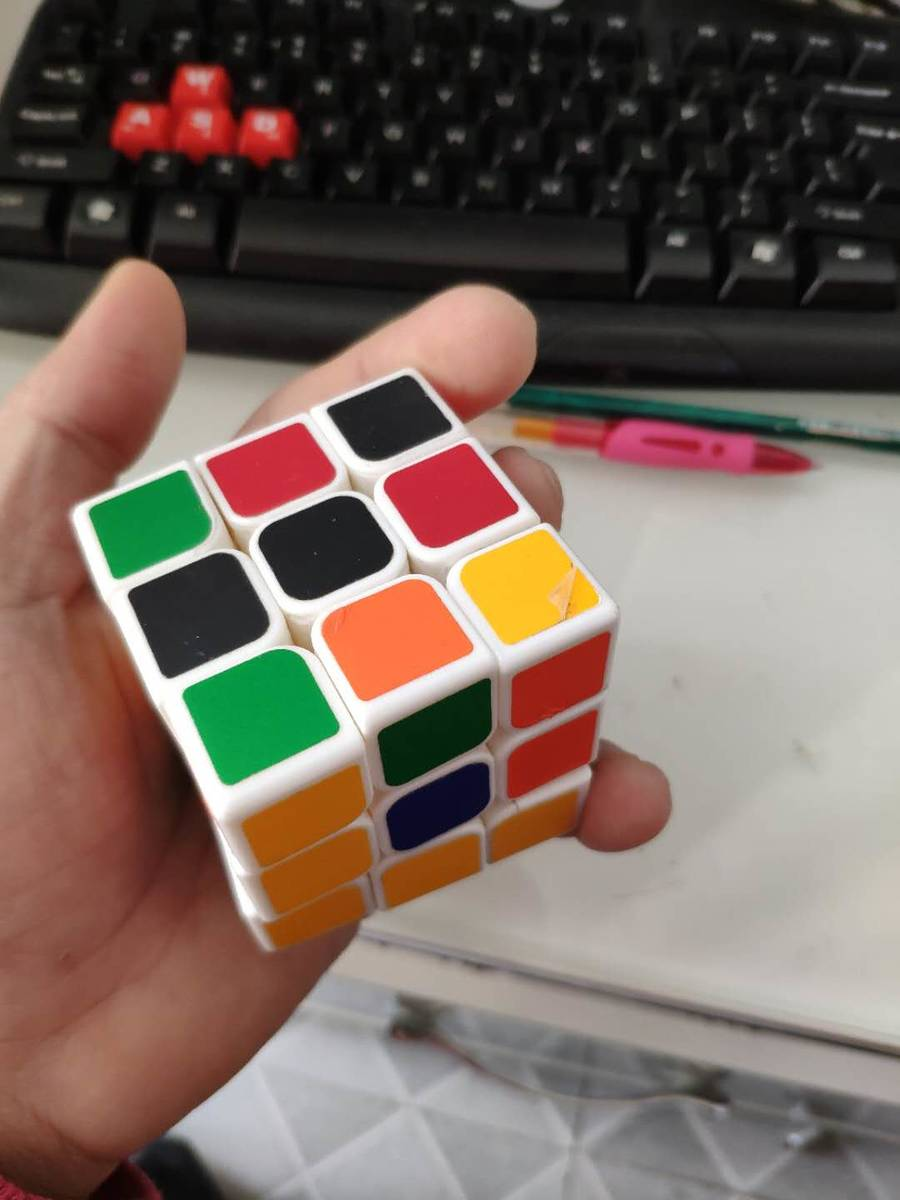cube: (54, 369, 646, 964)
